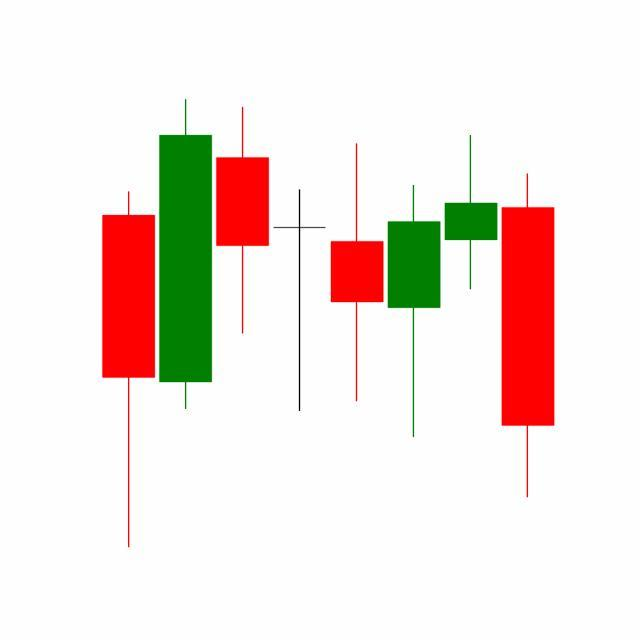Three Outside Up-Down: (328, 133, 500, 442)
